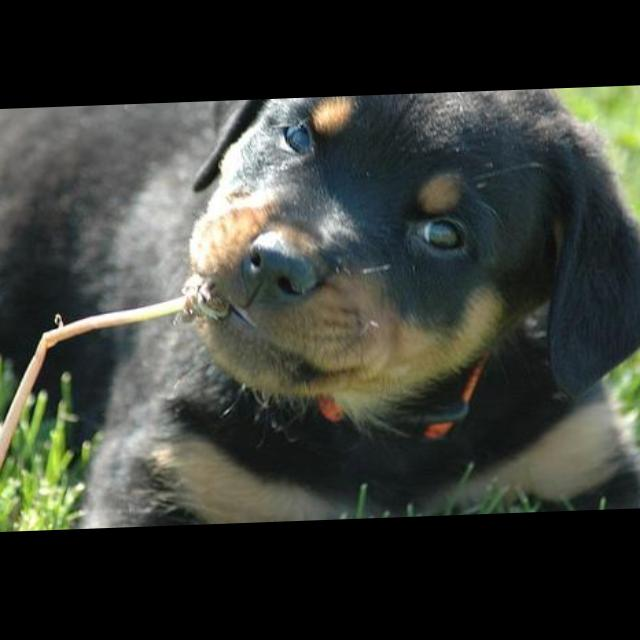rottweiler: (1, 91, 640, 533)
